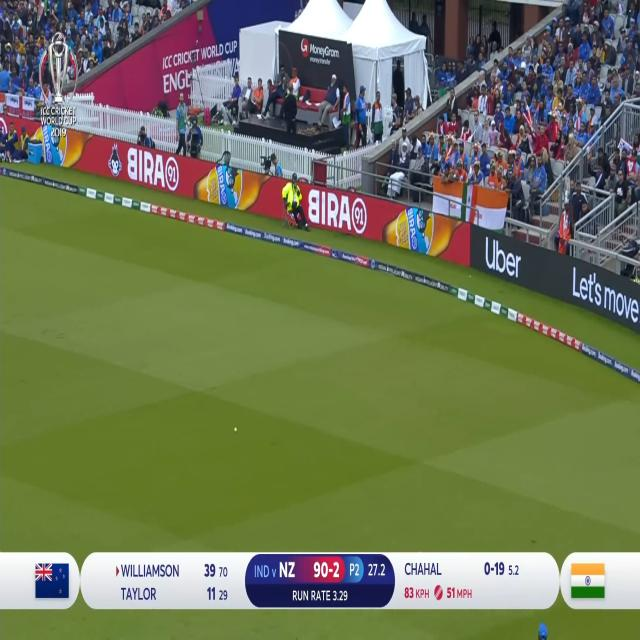ball: (232, 423, 239, 436)
